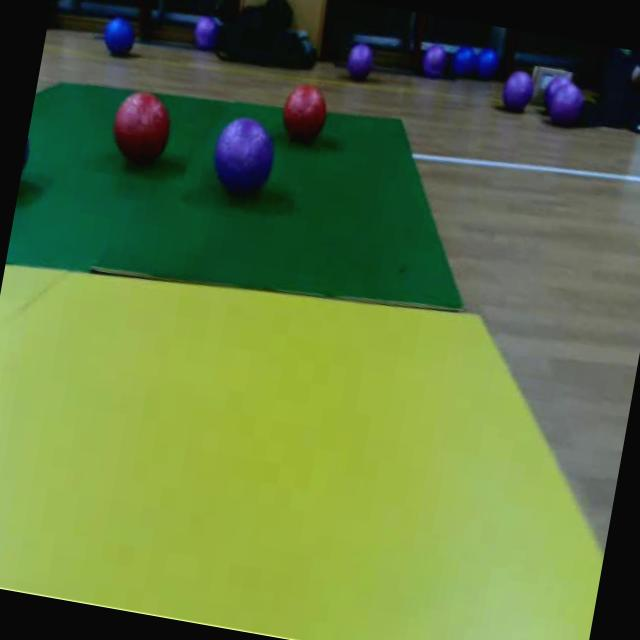blue_ball: (101, 15, 137, 58)
purple_ball: (209, 114, 281, 202), (500, 70, 536, 115), (548, 80, 582, 126)
red_ball: (107, 88, 177, 166), (280, 81, 332, 142)
